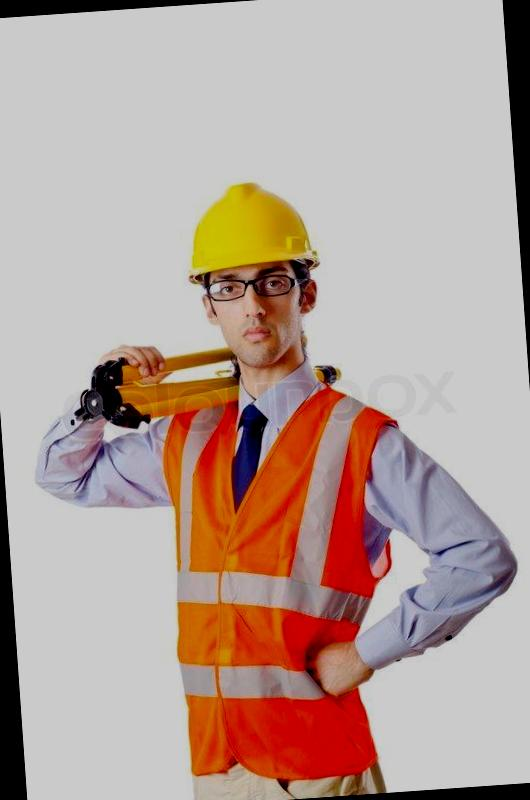helmet: (159, 176, 322, 307)
person: (57, 143, 475, 798)
